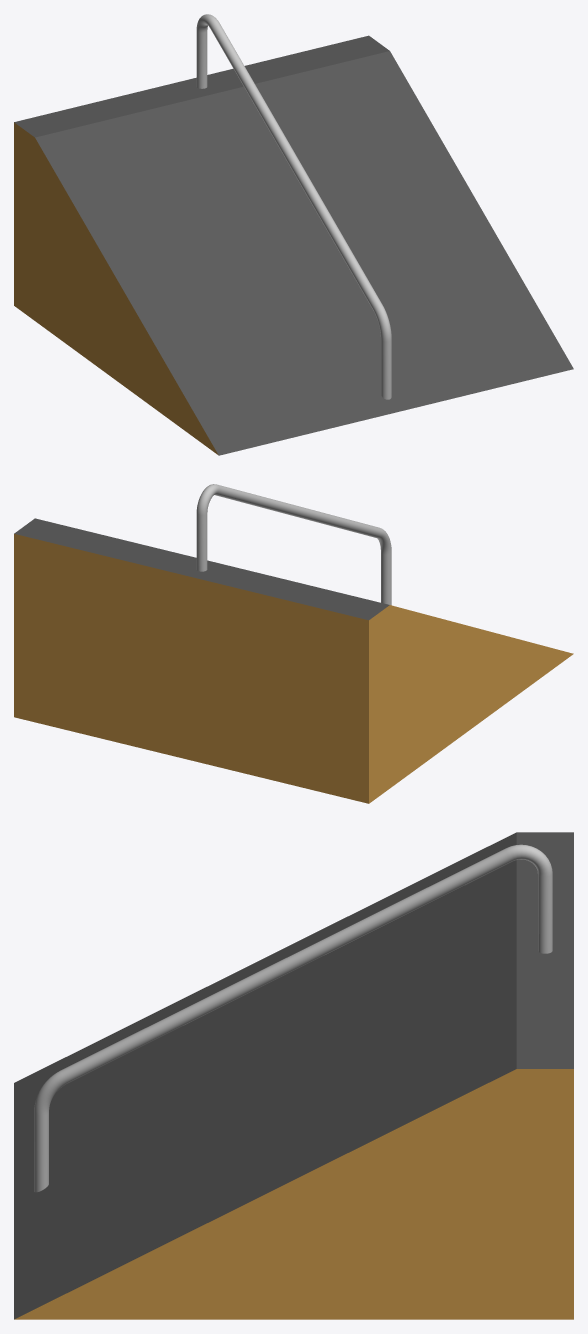
The model's file is Skate_Wedge_Handrail_Middle_01.FBX.
3 renders of one model, top to bottom at view 1: azimuth 30°, elevation 25°; view 2: azimuth 150°, elevation 25°; view 3: azimuth 270°, elevation 25°, orthographic. The views are drawn at different scales.
Visible parts, largest first — view 1: Skate_Wedge_Handrail_Middle_01; view 2: Skate_Wedge_Handrail_Middle_01; view 3: Skate_Wedge_Handrail_Middle_01.
Boxes of the visible parts, x1,y1,x2,y2 form: Skate_Wedge_Handrail_Middle_01: (14, 14, 573, 455); Skate_Wedge_Handrail_Middle_01: (14, 484, 573, 803); Skate_Wedge_Handrail_Middle_01: (14, 832, 573, 1319).
Bounding box in the file's own units: 3 × 2.1 × 3.
